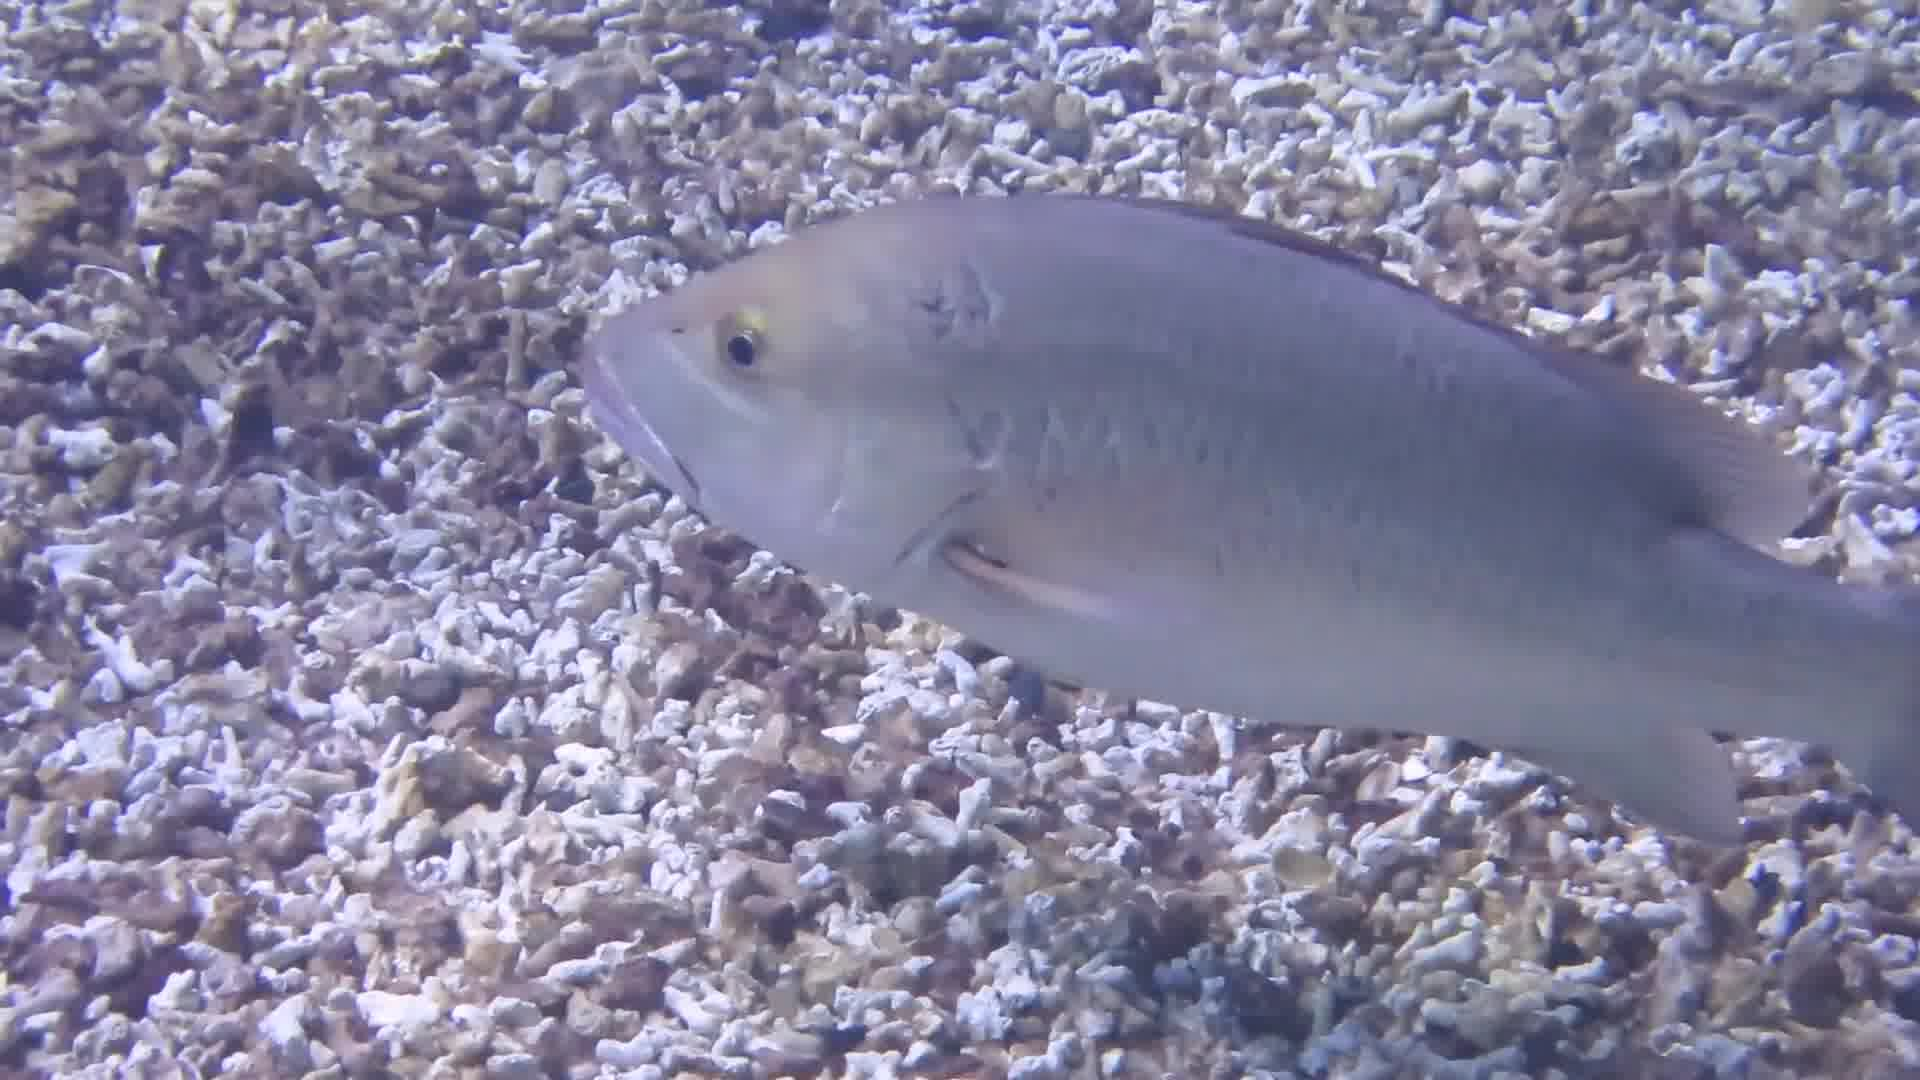Lutjanus argentimaculatus: (584, 171, 1873, 818)
